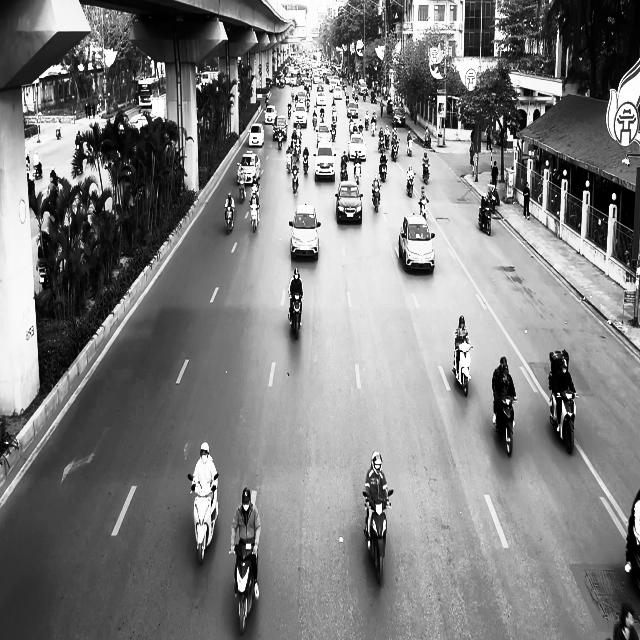bus: (137, 77, 159, 111)
car: (398, 212, 436, 273), (289, 202, 321, 260), (335, 181, 363, 223), (313, 139, 337, 182), (237, 152, 261, 185), (348, 134, 367, 162), (248, 123, 265, 146), (272, 116, 288, 140), (392, 106, 406, 126)
motorbike: (363, 488, 394, 584), (188, 472, 219, 565), (230, 542, 260, 634), (550, 385, 578, 454), (493, 394, 517, 456), (453, 342, 473, 396), (288, 293, 304, 339), (478, 206, 492, 235), (250, 202, 260, 232), (225, 205, 235, 234), (372, 184, 382, 212), (406, 172, 416, 197), (292, 164, 300, 192), (419, 198, 429, 219), (238, 177, 246, 203), (354, 161, 362, 186), (379, 159, 388, 181), (423, 164, 430, 184), (303, 154, 309, 174), (407, 139, 413, 156)
